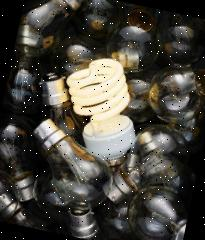lightbulb: (0, 0, 205, 240), (18, 114, 124, 215), (142, 56, 205, 129)
